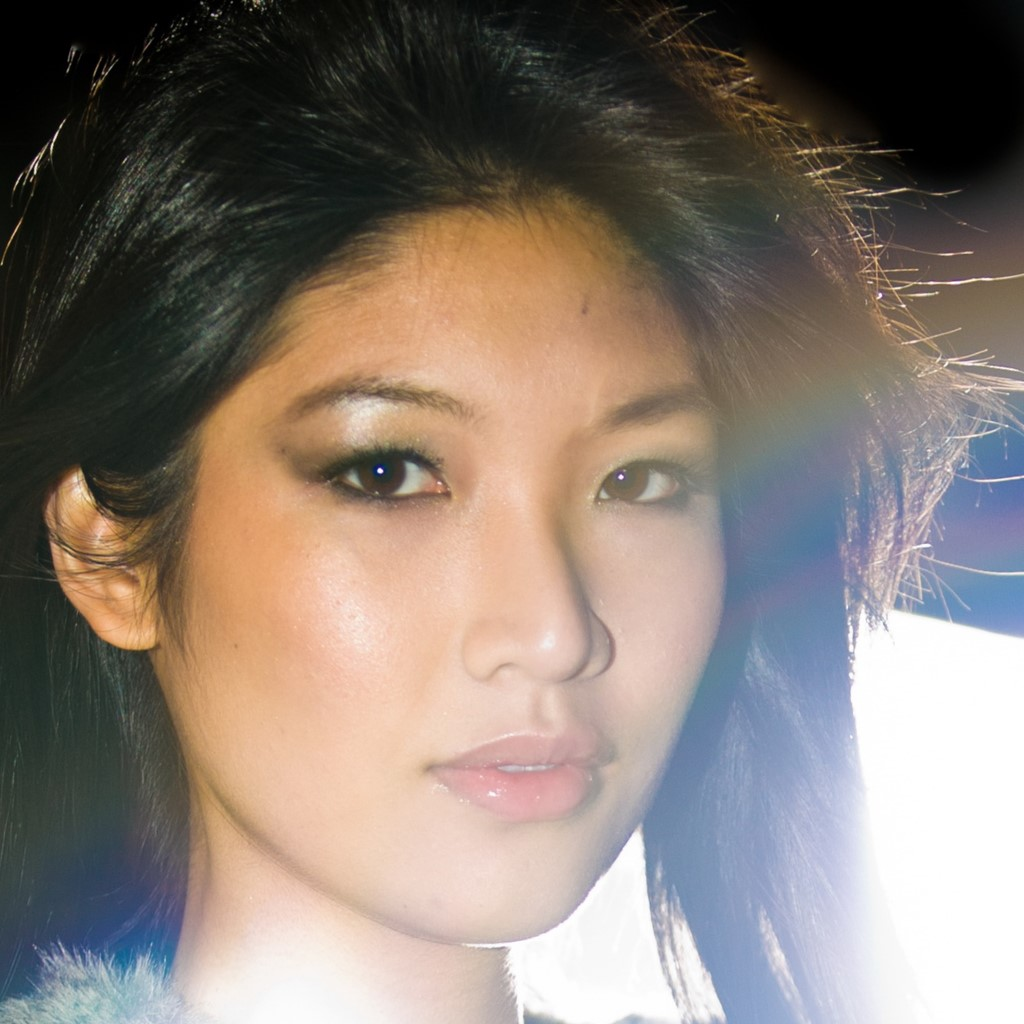sin_mascara: (90, 98, 737, 949)
